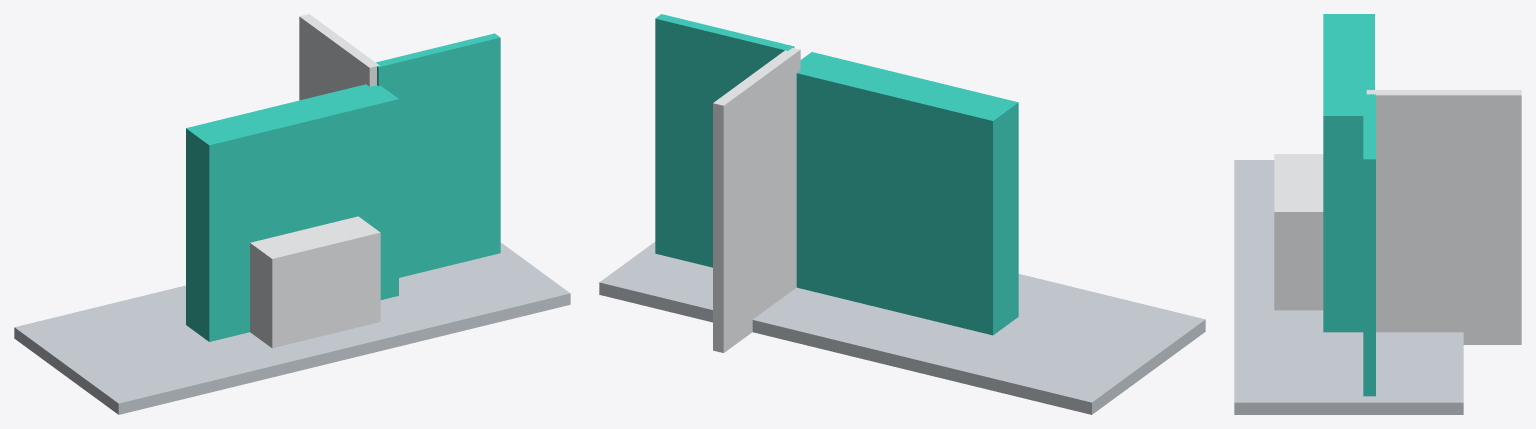
The picture shows the model from 3 angles, left to right: view 1: azimuth 30°, elevation 25°; view 2: azimuth 150°, elevation 25°; view 3: azimuth 270°, elevation 25°; orthographic projection. The views are drawn at different scales.
Parts seen in each view (by area): view 1: Exhibition Booth Concept; view 2: Exhibition Booth Concept; view 3: Exhibition Booth Concept.
Part boxes in pixels (x1=…): Exhibition Booth Concept: x1=14, y1=14, x2=570, y2=414; Exhibition Booth Concept: x1=599, y1=14, x2=1205, y2=414; Exhibition Booth Concept: x1=1234, y1=14, x2=1521, y2=414.
Bounding box in the file's own units: 5 × 2.4 × 2.5.
